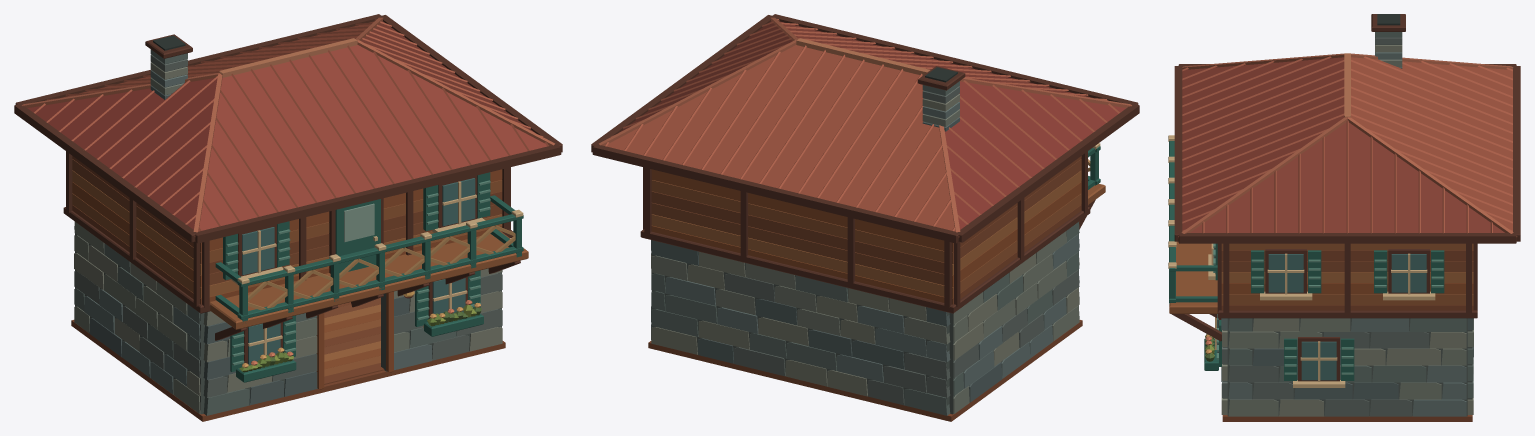
The model's file is house.glb.
The picture shows the model from 3 angles, left to right: view 1: azimuth 30°, elevation 25°; view 2: azimuth 150°, elevation 25°; view 3: azimuth 270°, elevation 25°; orthographic projection. The views are drawn at different scales.
Visible parts, largest first — view 1: HippedRoof, Stonework, UpperStorey, Balcony, Joinery, RoofSeams, Floor, WindowBoxes, Chimney, LowerWalls; view 2: HippedRoof, Stonework, UpperStorey, RoofSeams, Floor, Chimney, LowerWalls, Balcony; view 3: HippedRoof, Stonework, UpperStorey, RoofSeams, Joinery, Balcony, Chimney, Floor, LowerWalls, WindowBoxes.
Boxes of the visible parts, x1=… form: HippedRoof: x1=14, y1=14, x2=562, y2=243; Stonework: x1=74, y1=221, x2=502, y2=415; UpperStorey: x1=63, y1=151, x2=513, y2=313; Balcony: x1=209, y1=195, x2=528, y2=340; Joinery: x1=223, y1=172, x2=490, y2=389; RoofSeams: x1=34, y1=18, x2=548, y2=231; Floor: x1=71, y1=297, x2=505, y2=421; WindowBoxes: x1=236, y1=300, x2=483, y2=382; Chimney: x1=145, y1=34, x2=192, y2=99; LowerWalls: x1=75, y1=233, x2=501, y2=414; HippedRoof: x1=591, y1=14, x2=1139, y2=243; Stonework: x1=651, y1=222, x2=1079, y2=415; UpperStorey: x1=640, y1=151, x2=1090, y2=313; RoofSeams: x1=605, y1=18, x2=1119, y2=231; Floor: x1=648, y1=320, x2=1082, y2=421; Chimney: x1=917, y1=66, x2=965, y2=131; LowerWalls: x1=652, y1=233, x2=1078, y2=414; Balcony: x1=1079, y1=143, x2=1105, y2=229; HippedRoof: x1=1174, y1=53, x2=1520, y2=243; Stonework: x1=1221, y1=318, x2=1473, y2=416; UpperStorey: x1=1217, y1=243, x2=1477, y2=318; RoofSeams: x1=1182, y1=56, x2=1512, y2=233; Joinery: x1=1208, y1=243, x2=1444, y2=387; Balcony: x1=1168, y1=135, x2=1221, y2=341; Chimney: x1=1371, y1=14, x2=1405, y2=68; Floor: x1=1222, y1=415, x2=1472, y2=421; LowerWalls: x1=1222, y1=318, x2=1472, y2=416; WindowBoxes: x1=1204, y1=334, x2=1218, y2=370.
Bounding box in the file's own units: 10.01 × 7.79 × 8.64.
